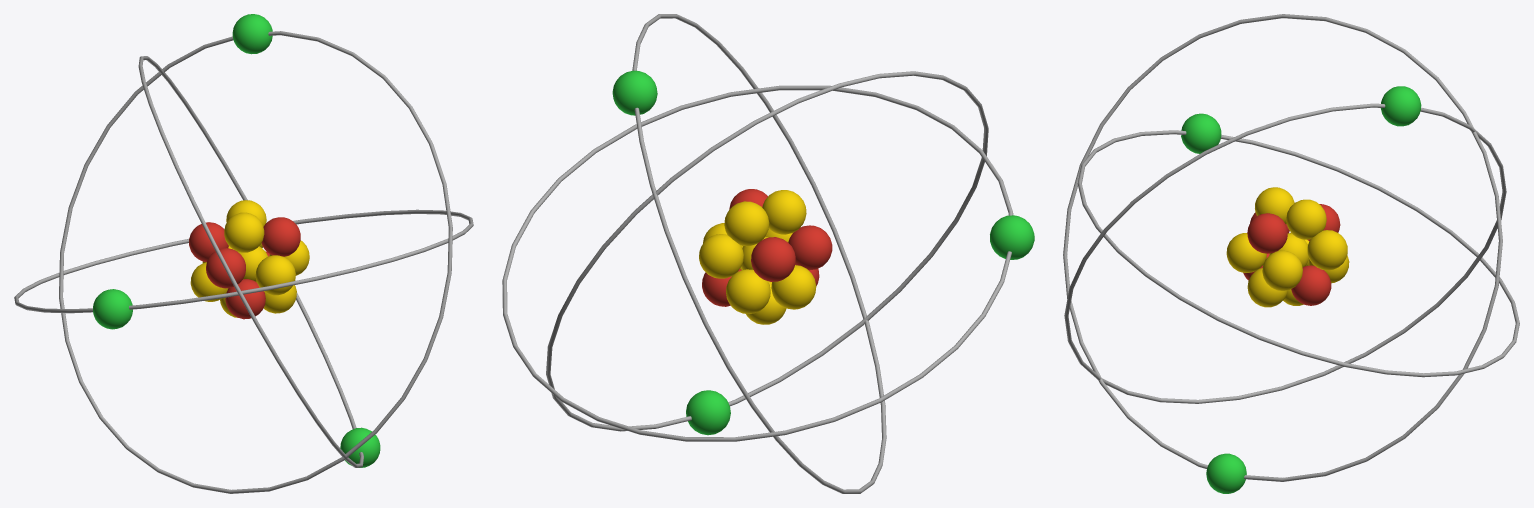
Rendered from rutherford.glb.
3 views of the same model, side by side, from view 1: azimuth 30°, elevation 25°; view 2: azimuth 150°, elevation 25°; view 3: azimuth 270°, elevation 25° (orthographic). The views are drawn at different scales.
Visible parts, largest first — view 1: Atom Rutherford.009; view 2: Atom Rutherford.009; view 3: Atom Rutherford.009.
Part boxes in pixels (left/top/right/bottom): Atom Rutherford.009: left=14, top=14, right=473, bottom=493; Atom Rutherford.009: left=502, top=14, right=1034, bottom=493; Atom Rutherford.009: left=1063, top=14, right=1519, bottom=493.
Size of the model in its own units: 2.02 by 1.87 by 1.96.
